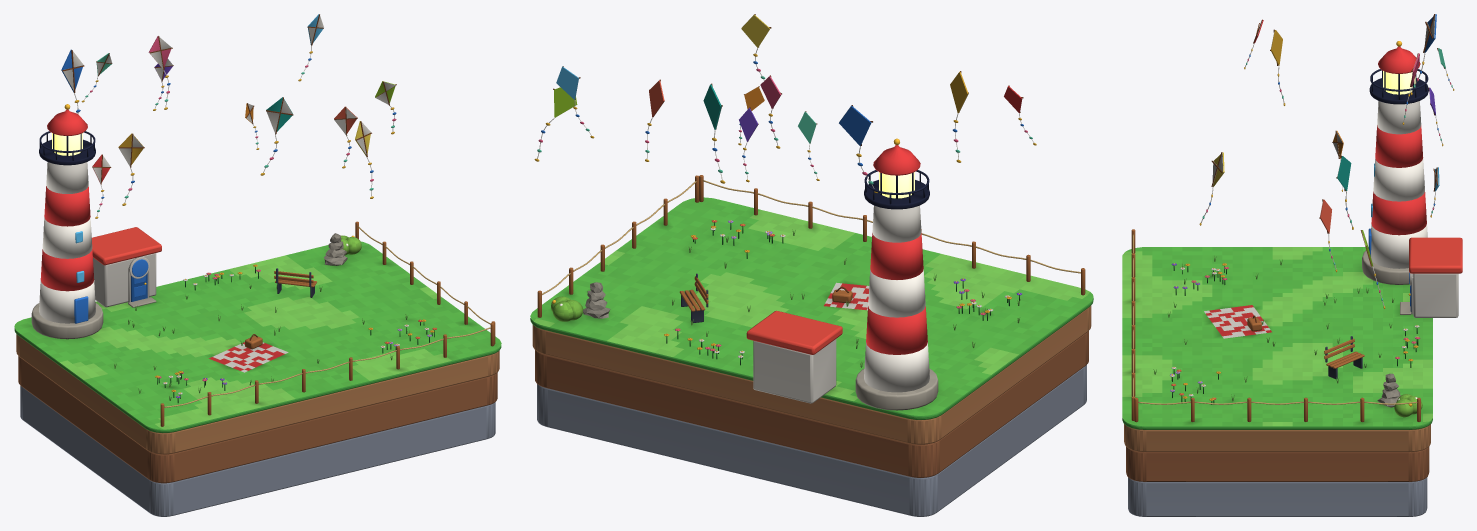
File: clifftop.glb
3 renders of one model, left to right at view 1: azimuth 30°, elevation 25°; view 2: azimuth 150°, elevation 25°; view 3: azimuth 270°, elevation 25°, orthographic. The views are drawn at different scales.
Parts seen in each view (by area): view 1: clifftop_Satin, clifftop_Matte, clifftop_Gloss, Sway_kite7_Satin, Sway_kite2_Satin, Sway_kite1_Satin; view 2: clifftop_Satin, clifftop_Matte, clifftop_Gloss, Sway_kite2_Satin, clifftop_Glow_warm; view 3: clifftop_Matte, clifftop_Satin, clifftop_Gloss, clifftop_Glow_warm, Sway_kite7_Satin, Sway_kite2_Satin.
Part boxes in pixels (<box>): clifftop_Satin: <box>16,133,499,516</box>; clifftop_Matte: <box>14,241,501,433</box>; clifftop_Gloss: <box>39,109,435,396</box>; Sway_kite7_Satin: <box>260,97,293,175</box>; Sway_kite2_Satin: <box>61,49,84,113</box>; Sway_kite1_Satin: <box>118,133,144,205</box>; clifftop_Satin: <box>532,172,1091,516</box>; clifftop_Matte: <box>530,197,1093,419</box>; clifftop_Gloss: <box>552,145,1019,392</box>; Sway_kite2_Satin: <box>839,105,877,193</box>; clifftop_Glow_warm: <box>879,172,914,198</box>; clifftop_Matte: <box>1122,247,1432,429</box>; clifftop_Satin: <box>1124,70,1458,516</box>; clifftop_Gloss: <box>1171,46,1462,406</box>; clifftop_Glow_warm: <box>1383,71,1415,94</box>; Sway_kite7_Satin: <box>1336,155,1353,229</box>; Sway_kite2_Satin: <box>1410,14,1436,95</box>.
Size of the model in its own units: 15.57 by 14.1 by 12.05.
